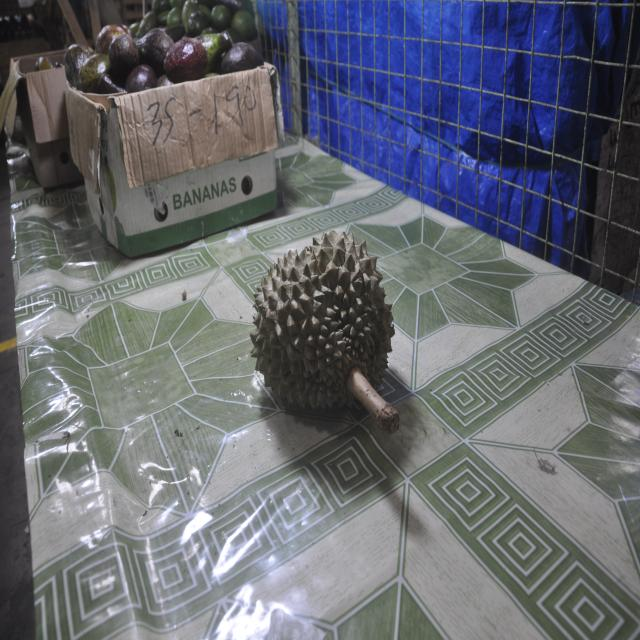mature: (250, 231, 399, 433)
